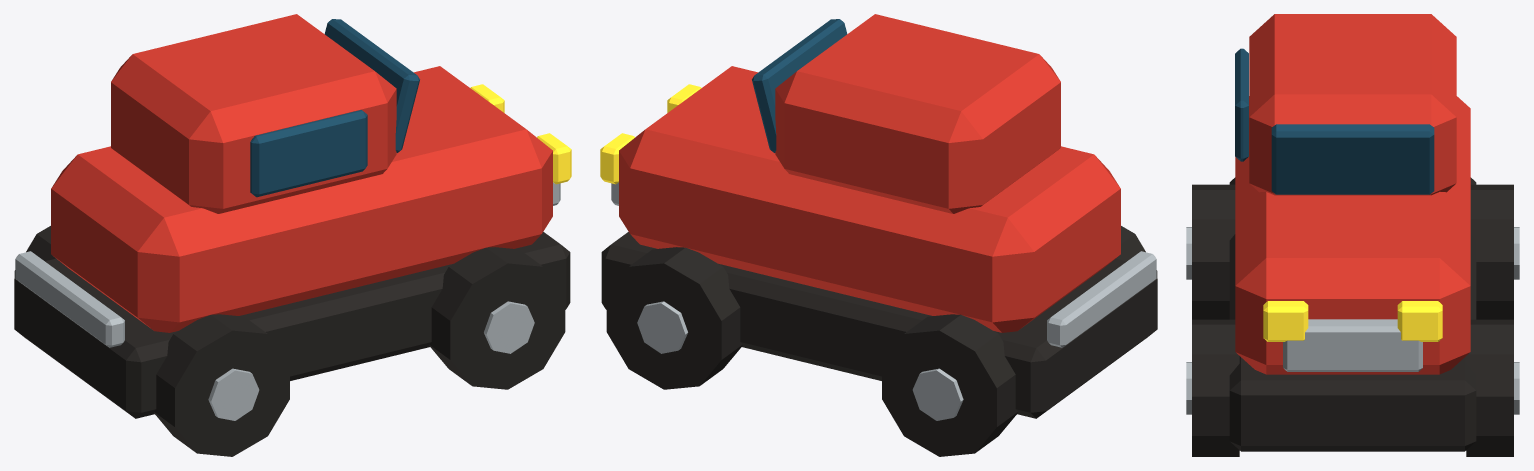
The model's file is autos.glb.
3 views of the same model, side by side, from view 1: azimuth 30°, elevation 25°; view 2: azimuth 150°, elevation 25°; view 3: azimuth 270°, elevation 25° (orthographic).
Parts seen in each view (by area): view 1: autos-fire-red-body, autos-fire-red-cabin, autos-black-chassis, autos-front-wheel-0, autos-rear-wheel-0, autos-side-window, autos-rear-bumper, autos-front-windscreen, autos-front-hub-0, autos-rear-hub-0, autos-yellow-lamp-0, autos-rear-wheel-1; view 2: autos-fire-red-body, autos-fire-red-cabin, autos-black-chassis, autos-front-wheel-1, autos-rear-wheel-1, autos-rear-bumper, autos-front-windscreen, autos-front-hub-1, autos-rear-hub-1, autos-yellow-lamp-1, autos-rear-wheel-0; view 3: autos-fire-red-body, autos-fire-red-cabin, autos-black-chassis, autos-front-windscreen, autos-chrome-grille, autos-front-wheel-0, autos-front-wheel-1, autos-rear-wheel-0, autos-rear-wheel-1, autos-yellow-lamp-0, autos-yellow-lamp-1, autos-side-window.
Boxes of the visible parts, x1=… form: autos-fire-red-body: x1=51, y1=66, x2=552, y2=332; autos-fire-red-cabin: x1=111, y1=14, x2=396, y2=213; autos-black-chassis: x1=14, y1=232, x2=570, y2=418; autos-front-wheel-0: x1=429, y1=247, x2=565, y2=389; autos-rear-wheel-0: x1=154, y1=314, x2=289, y2=456; autos-side-window: x1=250, y1=110, x2=367, y2=197; autos-rear-bumper: x1=15, y1=251, x2=124, y2=347; autos-front-windscreen: x1=324, y1=19, x2=419, y2=152; autos-front-hub-0: x1=484, y1=301, x2=534, y2=353; autos-rear-hub-0: x1=208, y1=368, x2=259, y2=420; autos-yellow-lamp-0: x1=537, y1=133, x2=571, y2=184; autos-rear-wheel-1: x1=14, y1=226, x2=55, y2=277; autos-fire-red-body: x1=619, y1=66, x2=1120, y2=332; autos-fire-red-cabin: x1=775, y1=14, x2=1060, y2=213; autos-black-chassis: x1=601, y1=232, x2=1157, y2=418; autos-front-wheel-1: x1=606, y1=247, x2=742, y2=389; autos-rear-wheel-1: x1=882, y1=314, x2=1017, y2=456; autos-rear-bumper: x1=1047, y1=251, x2=1156, y2=347; autos-front-windscreen: x1=752, y1=19, x2=847, y2=152; autos-front-hub-1: x1=637, y1=301, x2=687, y2=353; autos-rear-hub-1: x1=912, y1=368, x2=963, y2=420; autos-yellow-lamp-1: x1=600, y1=133, x2=634, y2=184; autos-rear-wheel-0: x1=1116, y1=226, x2=1157, y2=277; autos-fire-red-body: x1=1235, y1=96, x2=1470, y2=374; autos-fire-red-cabin: x1=1249, y1=14, x2=1456, y2=195; autos-black-chassis: x1=1229, y1=177, x2=1476, y2=451; autos-front-windscreen: x1=1271, y1=124, x2=1434, y2=194; autos-chrome-grille: x1=1283, y1=319, x2=1422, y2=371; autos-front-wheel-0: x1=1192, y1=319, x2=1239, y2=456; autos-front-wheel-1: x1=1466, y1=319, x2=1513, y2=456; autos-rear-wheel-0: x1=1192, y1=184, x2=1235, y2=319; autos-rear-wheel-1: x1=1470, y1=184, x2=1513, y2=319; autos-yellow-lamp-0: x1=1263, y1=301, x2=1308, y2=341; autos-yellow-lamp-1: x1=1397, y1=301, x2=1442, y2=341; autos-side-window: x1=1235, y1=48, x2=1248, y2=161.
Bounding box in the file's own units: 1.58 × 1 × 0.9675.
